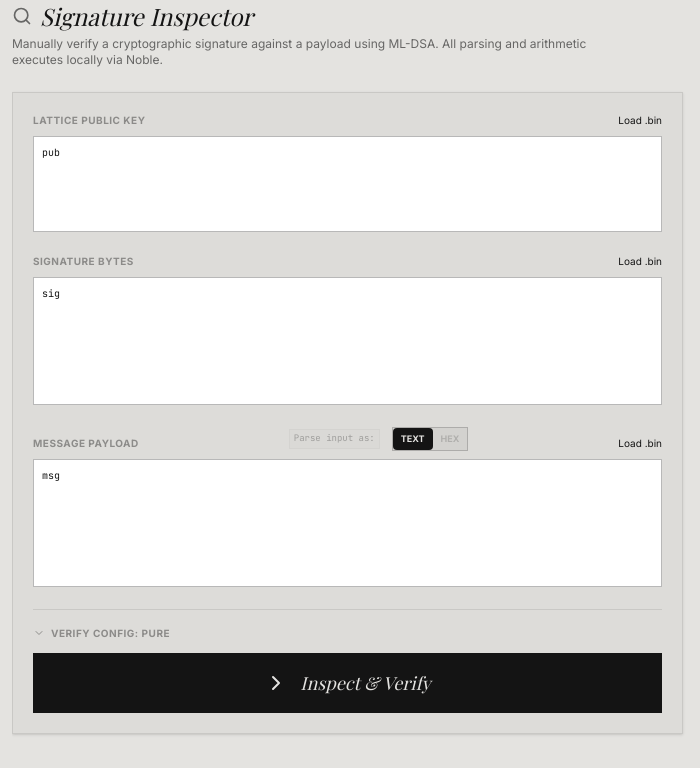
it: InspectTab › handles signature verification
Click the button "Inspect & Verify" at (348, 682), box [33,652,662,712]
(page scrolled)
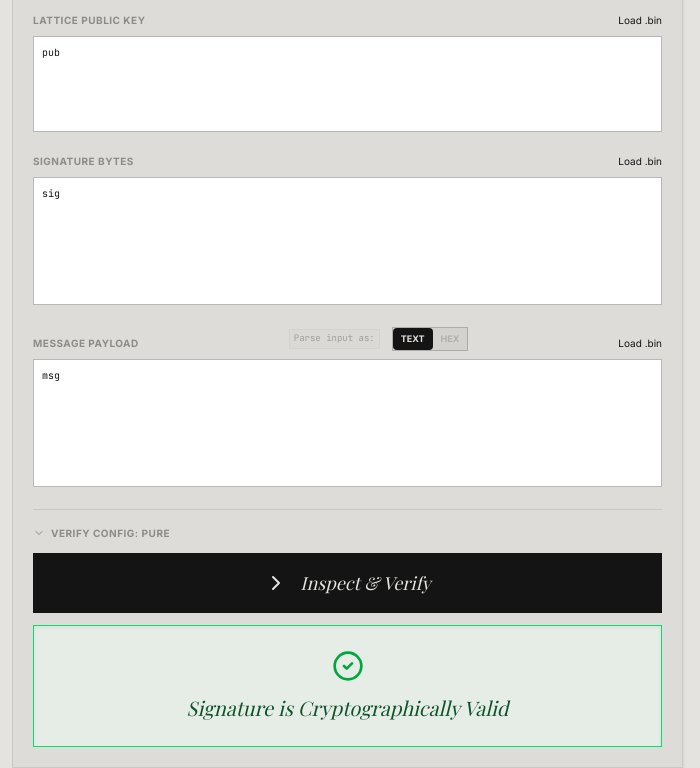
Expected: the text "Signature is Cryptographically Valid" is shown, [187,694,508,722]
